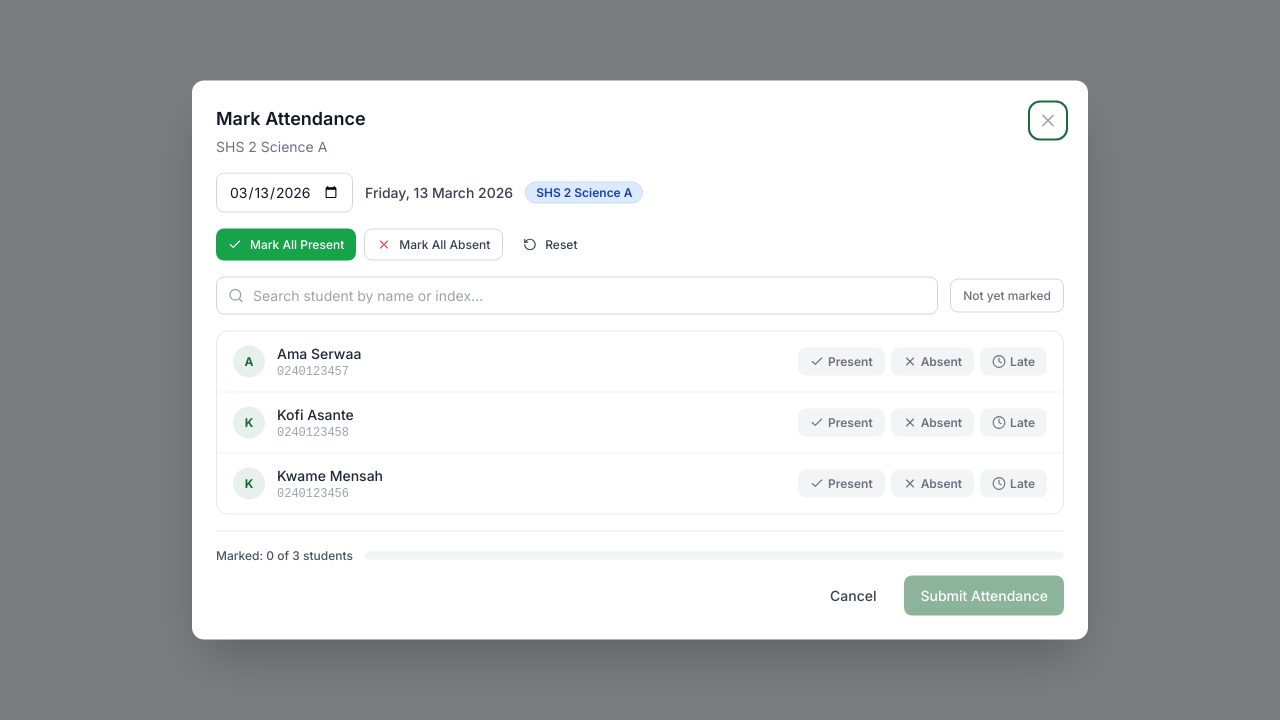
Scenario: AttendanceMarkingModal › shows reason input when student marked absent
Click the button "Absent" in the row of "Ama Serwaa". click: (932, 362)
box: [891,348,974,376]
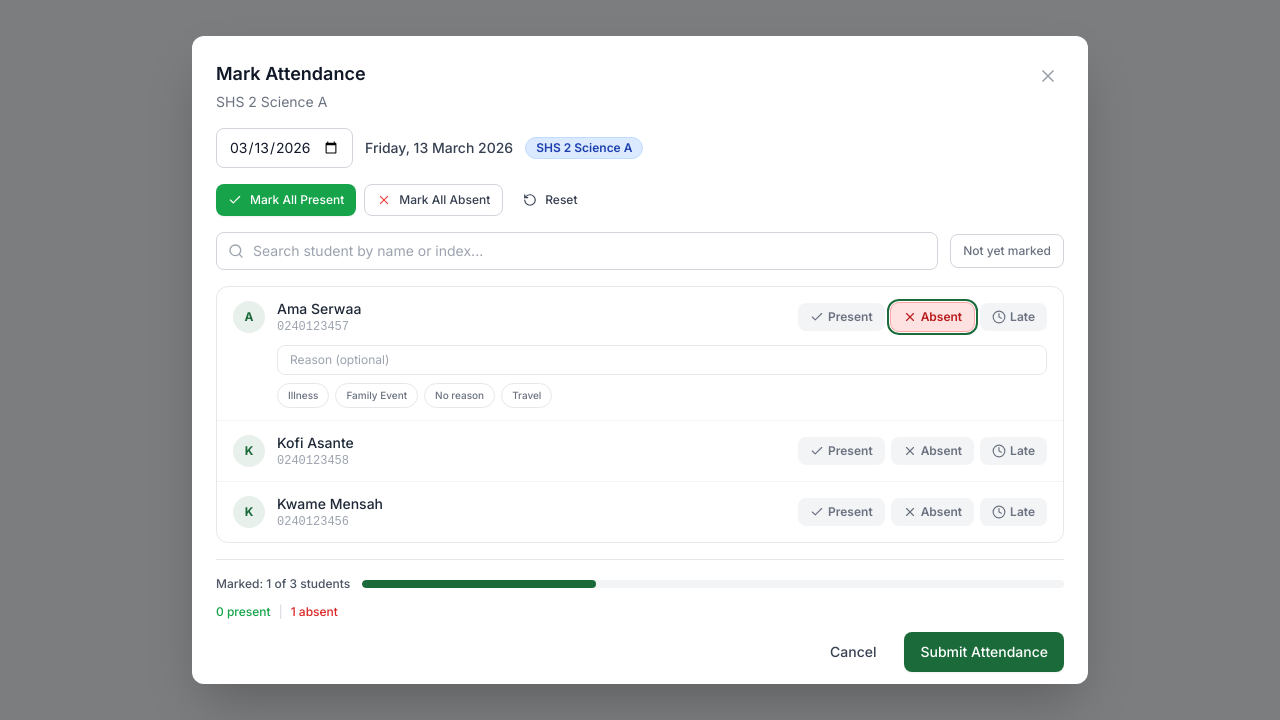
Expected: the field with placeholder "Reason (optional)" is shown, [277,345,1047,375]
